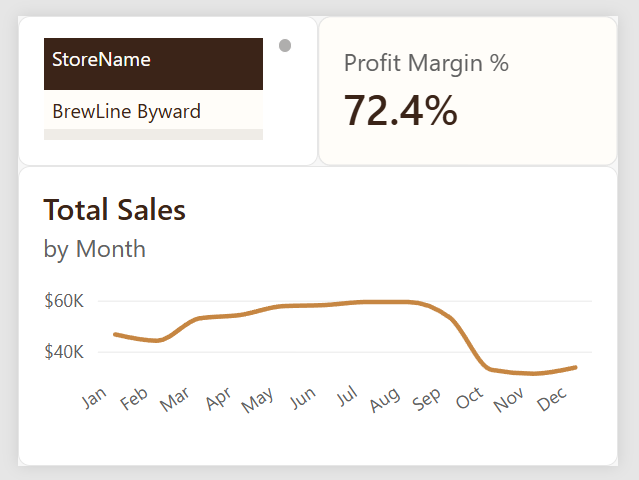

This screenshot's page, from the dashboard's own definition file:
{"tool":"powerbi","page":{"name":"Store Tooltip","canvas":[400,300],"ordinal":5},"visuals":[{"type":"tableEx","fields":{"Values":["DimStore.StoreName"]},"box":[0,0,200,100],"z":0},{"type":"lineChart","fields":{"Category":["DimDate.Month"],"Y":["_Measures.Total Sales"]},"box":[0,100,400,200],"z":1000},{"type":"cardVisual","fields":{"Data":["_Measures.Profit Margin %"]},"box":[200,0,200,100],"z":2000}]}

Visuals, with their boxes in screenshot pixels (x1, y1, x2, y2), scaled from the page's 400x300 canvas onto the 639x480 screenshot:
tableEx - DimStore.StoreName: (left=0, top=0, right=320, bottom=160)
lineChart - DimDate.Month x _Measures.Total Sales: (left=0, top=160, right=638, bottom=479)
cardVisual - _Measures.Profit Margin %: (left=320, top=0, right=638, bottom=160)
